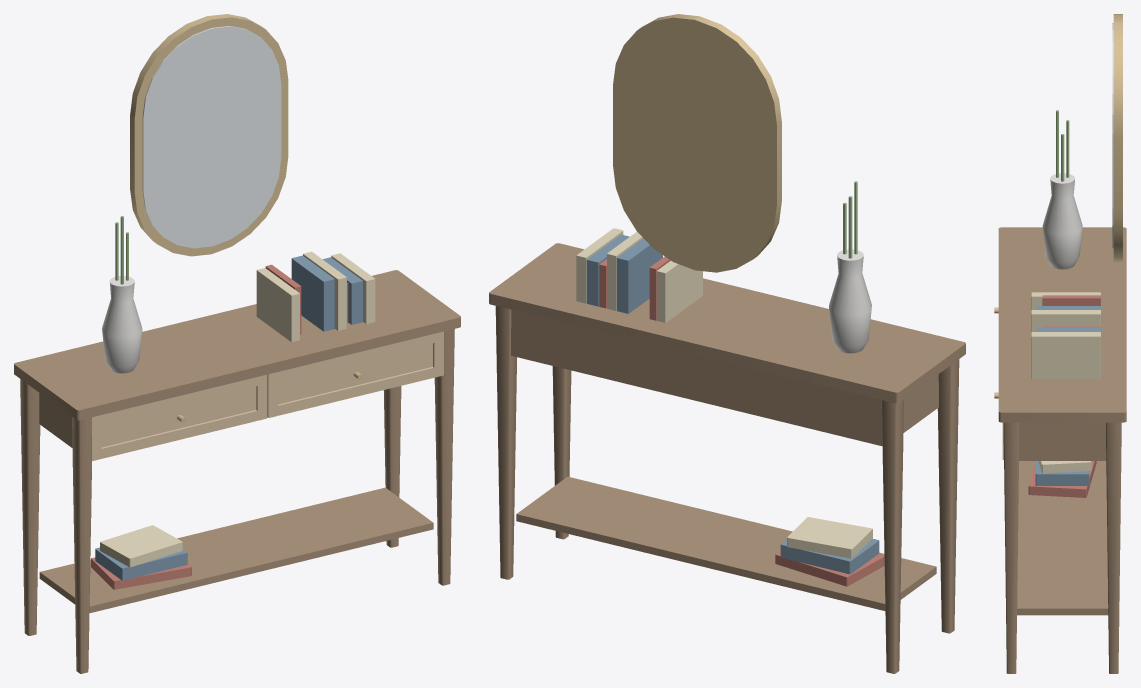
3 views of the same model, side by side, from view 1: azimuth 30°, elevation 25°; view 2: azimuth 150°, elevation 25°; view 3: azimuth 270°, elevation 25° (orthographic). The views are drawn at different scales.
Parts seen in each view (by area): view 1: Bàn console Dài=1200; Sâu=350; view 2: Bàn console Dài=1200; Sâu=350; view 3: Bàn console Dài=1200; Sâu=350.
Boxes of the visible parts, bbox=[...] form: Bàn console Dài=1200; Sâu=350: bbox=[14, 14, 460, 673]; Bàn console Dài=1200; Sâu=350: bbox=[489, 14, 965, 673]; Bàn console Dài=1200; Sâu=350: bbox=[994, 14, 1126, 673].
Bounding box in the file's own units: 1.2 × 1.7 × 0.362.
